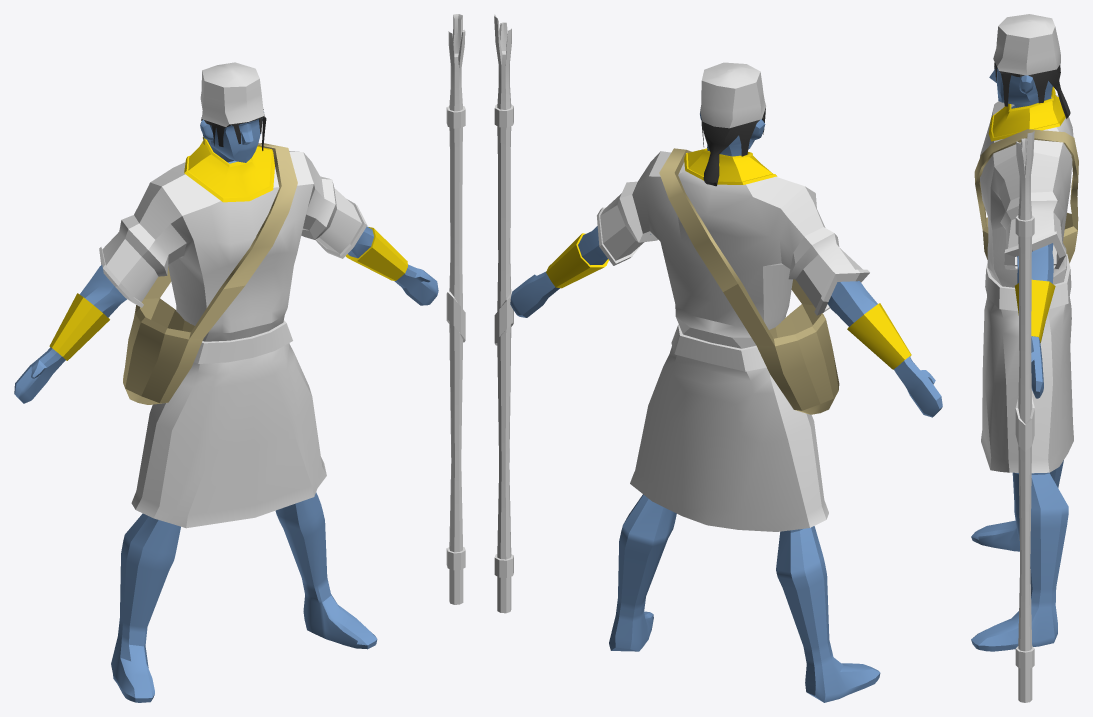
The model's file is Cuerpo_Druida.fbx.
The picture shows the model from 3 angles, left to right: view 1: azimuth 30°, elevation 25°; view 2: azimuth 150°, elevation 25°; view 3: azimuth 270°, elevation 25°; orthographic projection. The views are drawn at different scales.
Parts seen in each view (by area): view 1: Ropa1, Cuerpo_Druida, Bolso, Baculo_Druida, Cuello; view 2: Ropa1, Cuerpo_Druida, Bolso, Baculo_Druida, Cuello, Pelo; view 3: Ropa1, Cuerpo_Druida, Baculo_Druida, Bolso, Cuello, Pelo.
Boxes of the visible parts, bbox=[...] form: Ropa1: bbox=[99, 151, 367, 528]; Cuerpo_Druida: bbox=[14, 62, 438, 702]; Bolso: bbox=[123, 143, 297, 404]; Baculo_Druida: bbox=[446, 14, 465, 604]; Cuello: bbox=[184, 137, 274, 202]; Ropa1: bbox=[597, 151, 869, 531]; Cuerpo_Druida: bbox=[510, 62, 942, 702]; Bolso: bbox=[659, 148, 839, 414]; Baculo_Druida: bbox=[494, 14, 513, 613]; Cuello: bbox=[684, 148, 777, 184]; Pelo: bbox=[701, 108, 765, 186]; Ropa1: bbox=[980, 95, 1073, 473]; Cuerpo_Druida: bbox=[971, 14, 1068, 651]; Baculo_Druida: bbox=[1015, 131, 1034, 702]; Bolso: bbox=[974, 129, 1078, 263]; Cuello: bbox=[988, 86, 1065, 141]; Pelo: bbox=[994, 62, 1070, 118].
Size of the model in its own units: 1.35 by 1.7 by 0.2907.
